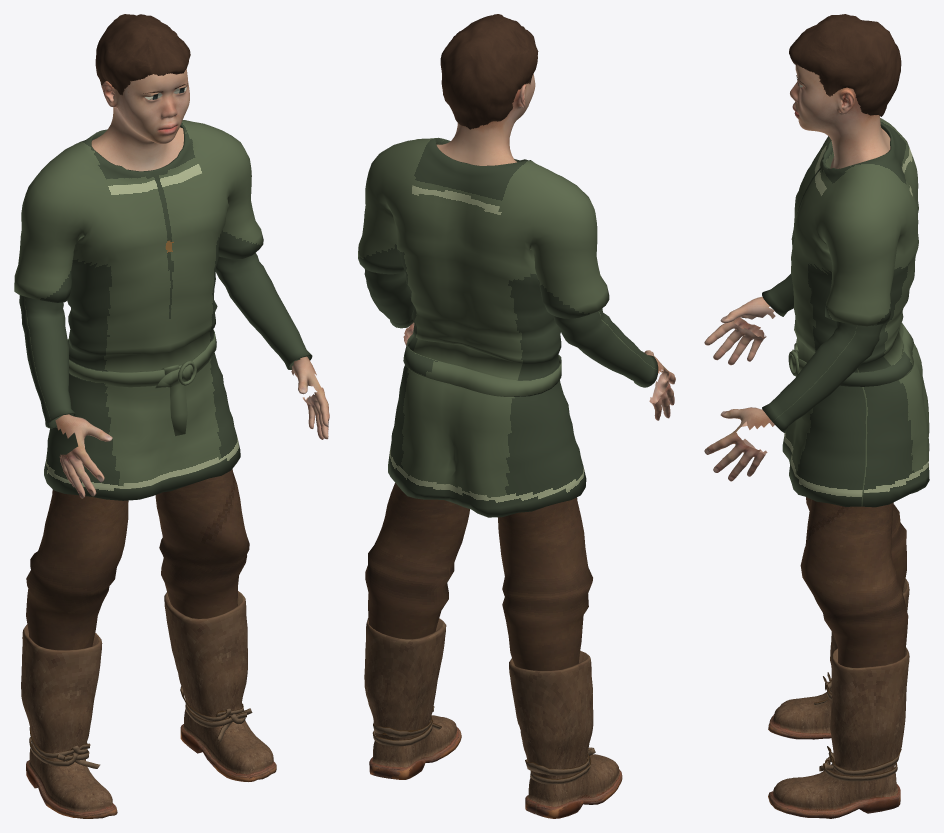
File: orin-field-tunic.glb
3 renders of one model, left to right at view 1: azimuth 30°, elevation 25°; view 2: azimuth 150°, elevation 25°; view 3: azimuth 270°, elevation 25°, orthographic.
Visible parts, largest first — view 1: orin-field-tunic runtime mesh; view 2: orin-field-tunic runtime mesh; view 3: orin-field-tunic runtime mesh.
Boxes of the visible parts, box(x1,y1,x2,y2) form: orin-field-tunic runtime mesh: box(14, 14, 329, 818); orin-field-tunic runtime mesh: box(358, 14, 675, 818); orin-field-tunic runtime mesh: box(704, 14, 929, 818).
Size of the model in its own units: 0.6785 by 1.85 by 0.5045.
8 materials, 7 textured.
